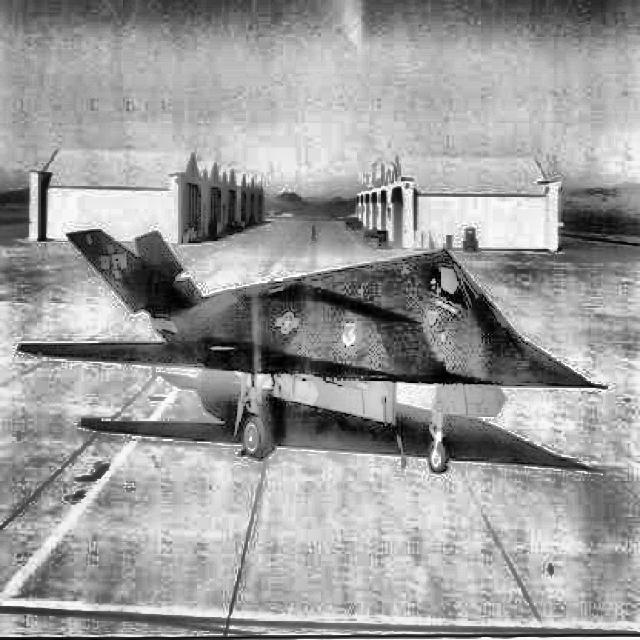F117: (14, 228, 608, 472)
